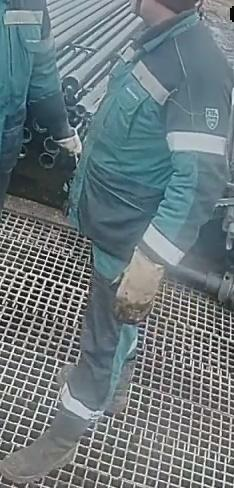gloves: (111, 245, 165, 324), (44, 124, 83, 173)
vest: (66, 10, 233, 278), (0, 3, 53, 169)
